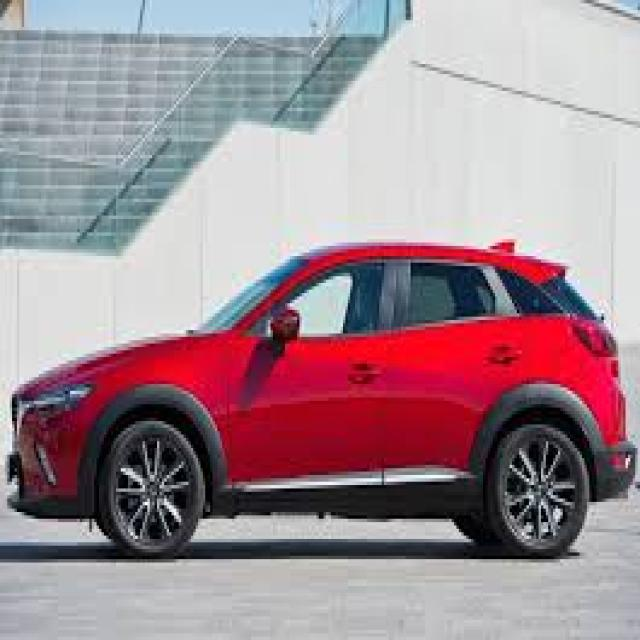SUV: (12, 227, 632, 562)
